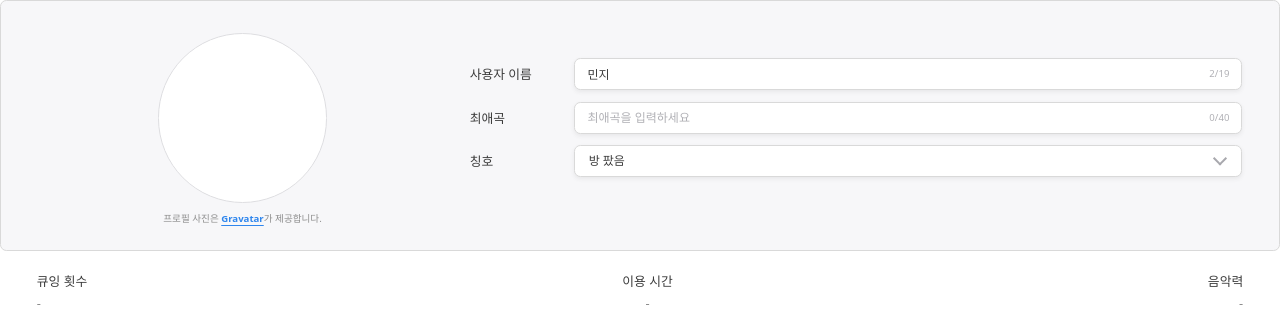
Scenario: 설정 칭호 목록 › 잘못된 획득률과 빈 설명에는 fallback tooltip 문구를 표시한다
The width and height of the screenshot is (1280, 322).
Click the dropdown named "칭호".
click(607, 160)  # box [574,145,1242,177]
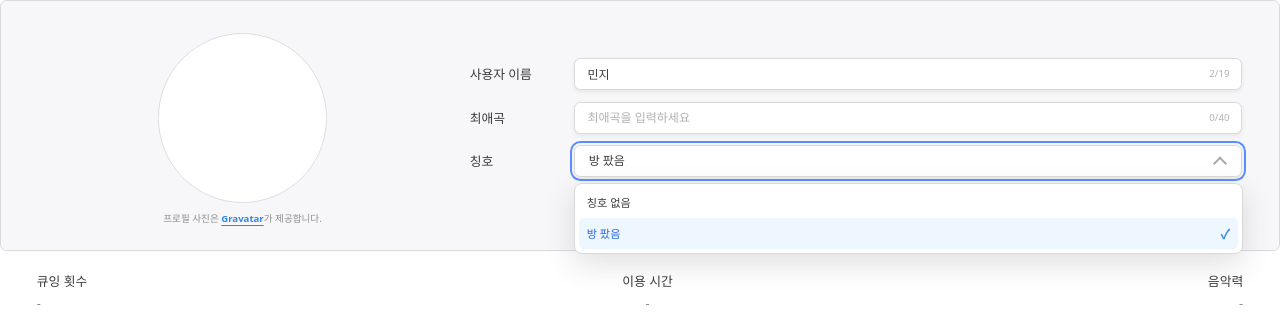
Hover over the option "방 팠음 ✓".
mouse_move(604, 233)  # box [579,218,1238,249]
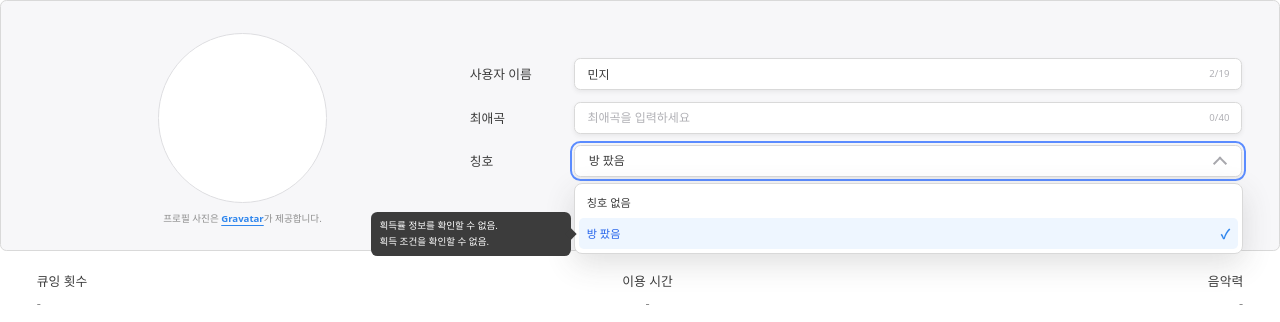
Result: the tooltip shows "획득률 정보를 확인할 수 없음." at [380,219,498,232]
Result: the tooltip shows "획득 조건을 확인할 수 없음." at [380,235,489,248]
